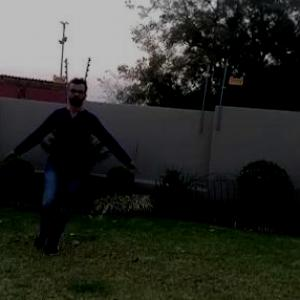land: (9, 84, 127, 245)
